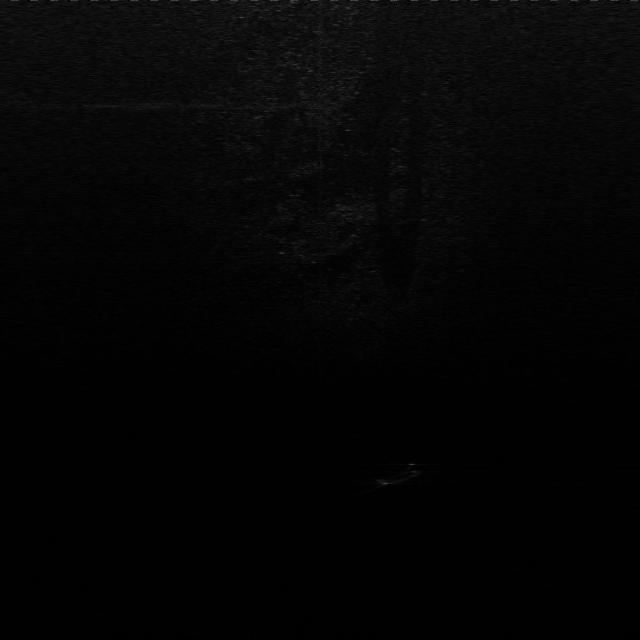tyre: (376, 459, 426, 488)
